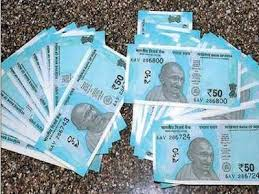fifty: (64, 55, 122, 165), (134, 55, 224, 100), (160, 136, 257, 175)
